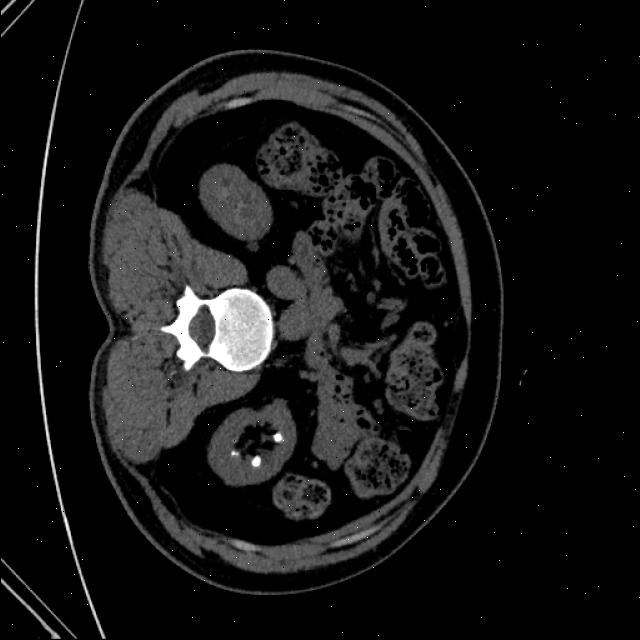kidneystone: (269, 432, 282, 449), (231, 442, 238, 455), (251, 455, 260, 465)
